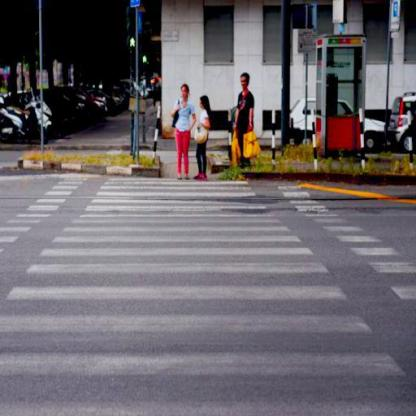crosswalk: (4, 259, 349, 306), (84, 190, 268, 214)
